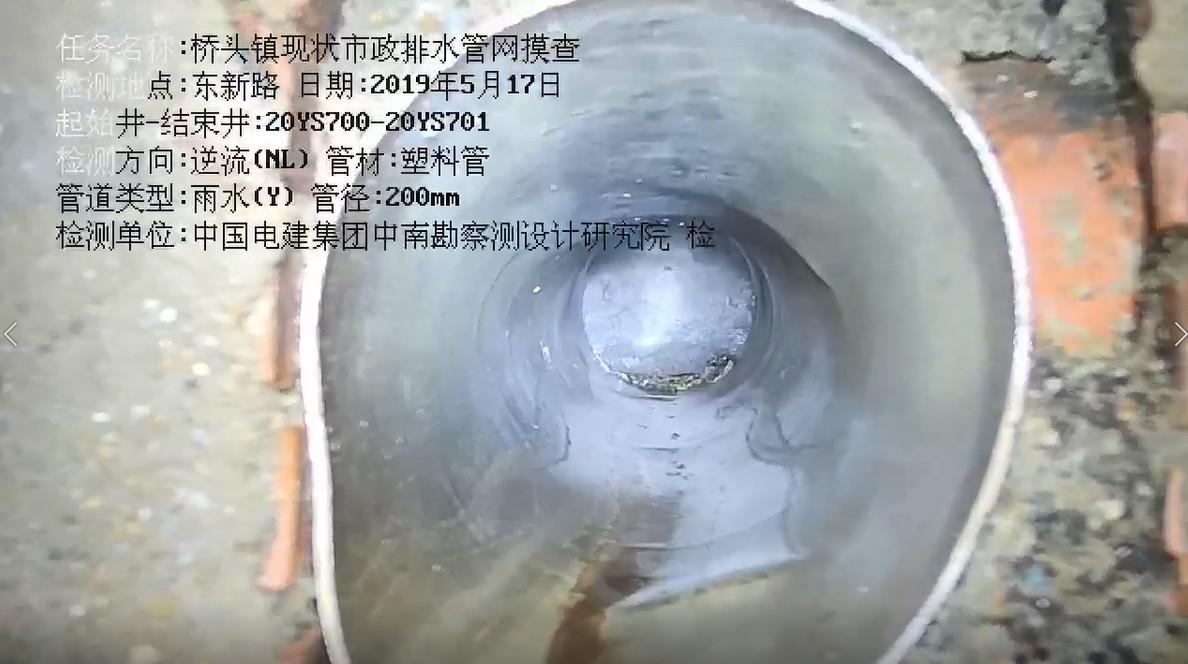BX: (499, 181, 878, 316)
